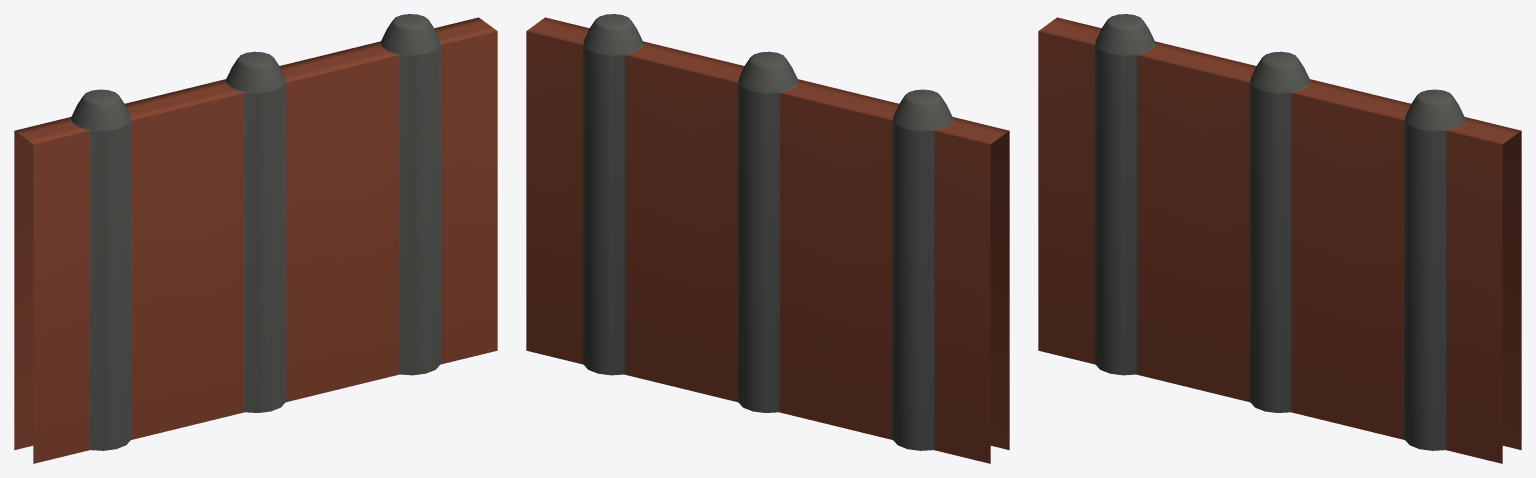
File: FloodWallSmall.fbx
The picture shows the model from 3 angles, left to right: view 1: azimuth 30°, elevation 25°; view 2: azimuth 150°, elevation 25°; view 3: azimuth 330°, elevation 25°; orthographic projection.
Visible parts, largest first — view 1: Cylinder.002; view 2: Cylinder.002; view 3: Cylinder.002.
Part boxes in pixels (x1,y1,x2,y2): Cylinder.002: [14, 14, 497, 463]; Cylinder.002: [526, 14, 1009, 463]; Cylinder.002: [1038, 14, 1521, 463].
Bounding box in the file's own units: 237 × 167 × 26.62.
